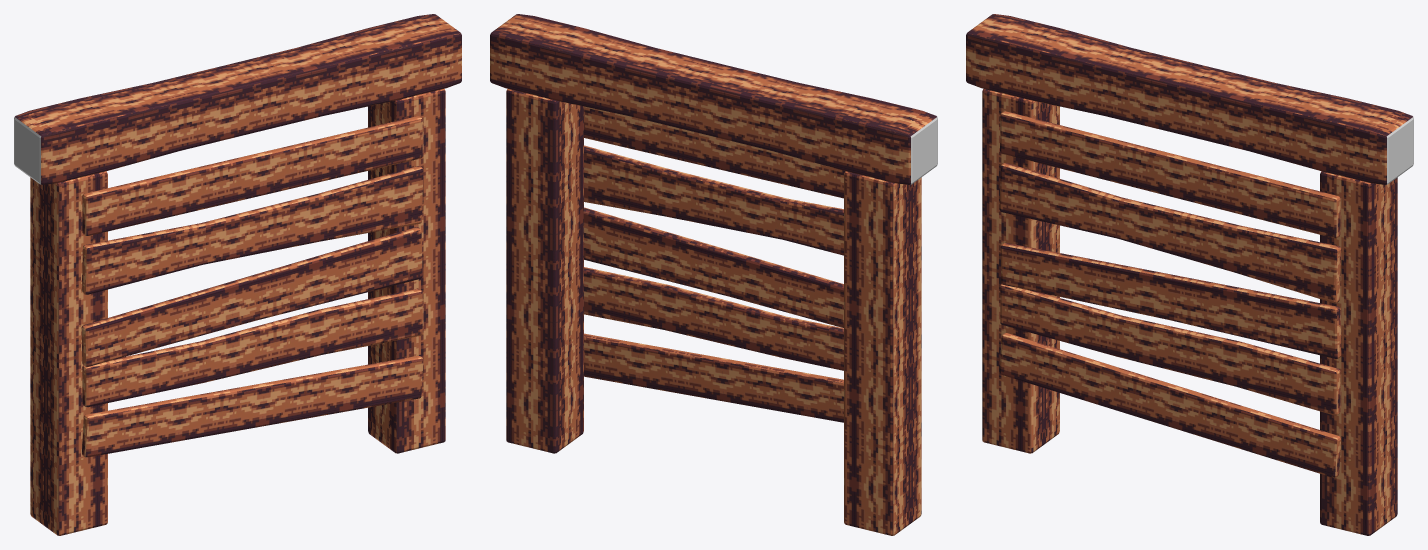
Rendered from VigaMadera 04.fbx.
3 renders of one model, left to right at view 1: azimuth 30°, elevation 25°; view 2: azimuth 150°, elevation 25°; view 3: azimuth 330°, elevation 25°, orthographic.
Parts seen in each view (by area): view 1: VigaMadera.004; view 2: VigaMadera.004; view 3: VigaMadera.004.
Boxes of the visible parts, x1,y1,x2,y2 form: VigaMadera.004: (14, 14, 461, 535); VigaMadera.004: (490, 14, 937, 535); VigaMadera.004: (966, 14, 1413, 535).
Size of the model in its own units: 2.5 by 0.35 by 2.3.
